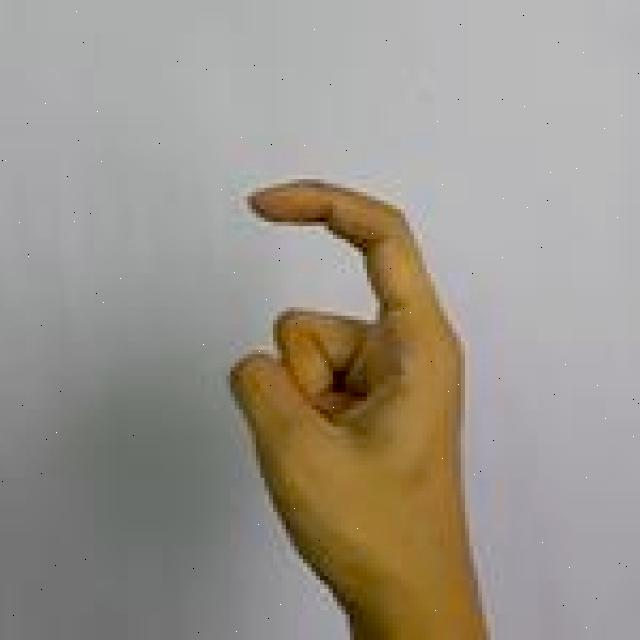X: (220, 170, 500, 640)
